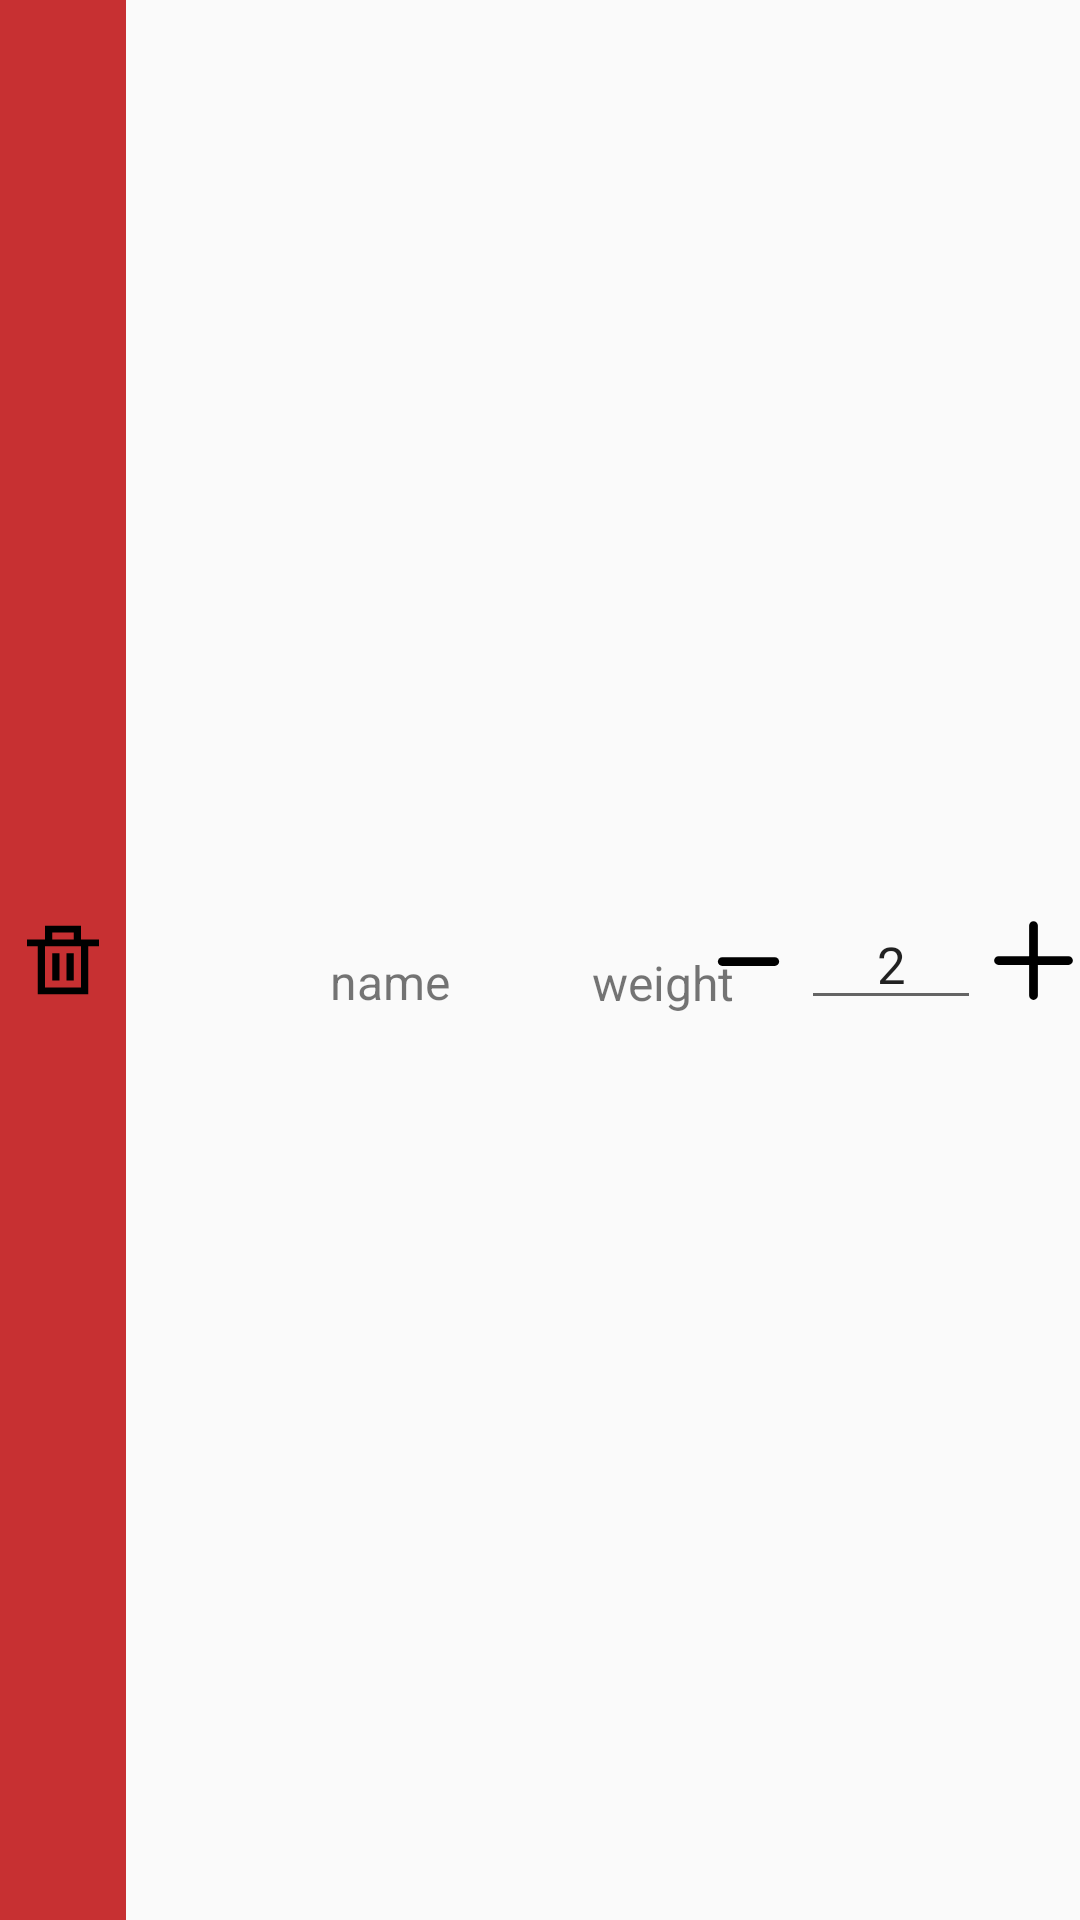

Named icons in this screenshot (1080w x 1920h) and their centers, (x=x, y=y):
plus: (x=1033, y=960)
